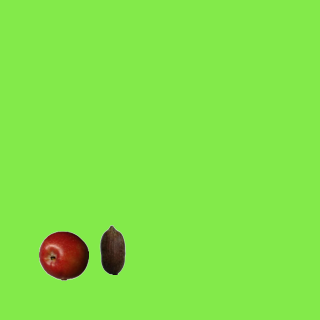Apple Braeburn: (38, 230, 88, 280)
Nut Pecan: (87, 224, 137, 274)
